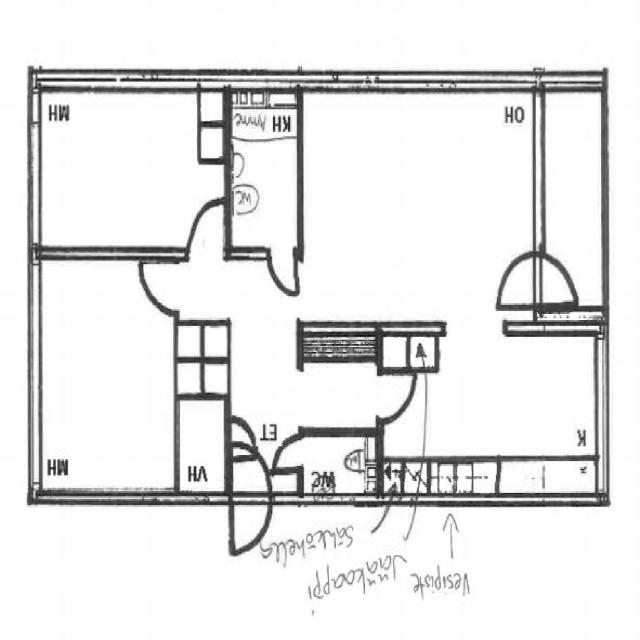door: (491, 246, 544, 312), (227, 484, 274, 556), (367, 364, 420, 427), (185, 194, 229, 263), (138, 253, 185, 313), (360, 494, 394, 534)
zone: (298, 91, 540, 322), (32, 250, 178, 498), (31, 85, 223, 256), (404, 322, 606, 476), (538, 88, 607, 306), (228, 119, 301, 259), (294, 430, 381, 501), (174, 392, 227, 498), (498, 456, 598, 504), (380, 322, 436, 371)
